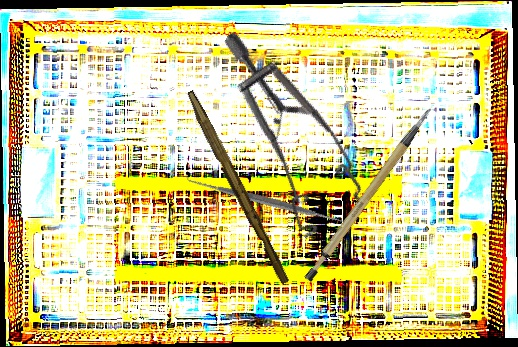Scalpel Handle: (282, 105, 459, 285), (180, 89, 294, 286)
Spatula Surgical: (185, 121, 349, 282)
Speculum: (158, 29, 407, 257)
